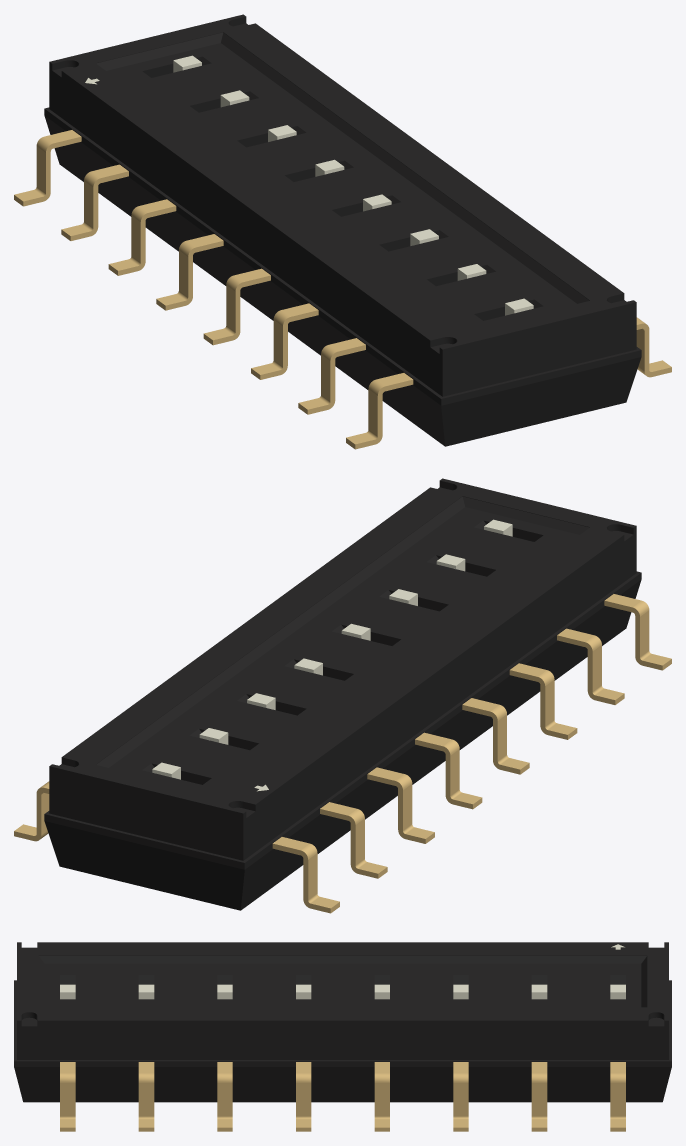
File: kc-sw_dip_spstx08_slide_omron_a6s-810x_w8.9mm_p2.54mm.glb
3 views of the same model, one above another, from view 1: azimuth 30°, elevation 25°; view 2: azimuth 150°, elevation 25°; view 3: azimuth 270°, elevation 25° (orthographic). The views are drawn at different scales.
Parts seen in each view (by area): view 1: 0_0_0_0, 0.75_0.5_0.25_0.9, 0.75_0.75_0.6666666666666666_0; view 2: 0_0_0_0, 0.75_0.5_0.25_0.9, 0.75_0.75_0.6666666666666666_0; view 3: 0_0_0_0, 0.75_0.5_0.25_0.9, 0.75_0.75_0.6666666666666666_0.
Part boxes in pixels (bbox=[...]): 0_0_0_0: bbox=[44, 14, 641, 446]; 0.75_0.5_0.25_0.9: bbox=[14, 130, 671, 449]; 0.75_0.75_0.6666666666666666_0: bbox=[85, 55, 533, 315]; 0_0_0_0: bbox=[44, 478, 641, 910]; 0.75_0.5_0.25_0.9: bbox=[14, 594, 671, 913]; 0.75_0.75_0.6666666666666666_0: bbox=[152, 519, 512, 791]; 0_0_0_0: bbox=[14, 942, 671, 1102]; 0.75_0.5_0.25_0.9: bbox=[60, 1062, 625, 1131]; 0.75_0.75_0.6666666666666666_0: bbox=[60, 944, 625, 999].
Bounding box in the file's own units: 0.98 × 0.3075 × 2.13.
